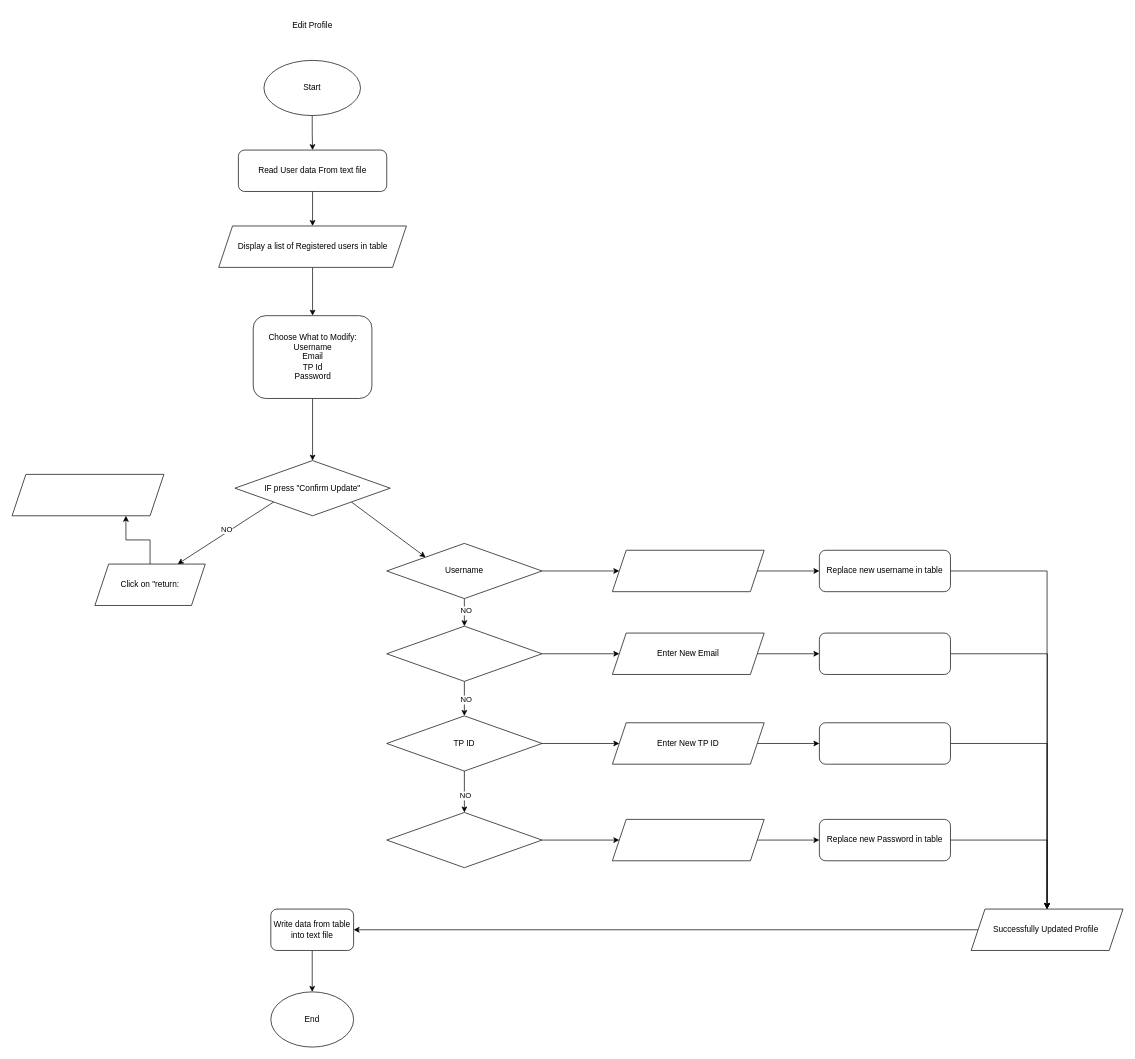
This 1135x1059 diagram has some shape labels left out. The box of each missing label's shape, as (x1, y1, x2, y2) in pixels:
Email: (386, 625, 542, 681)
Enter New Password: (612, 819, 764, 861)
Enter New Username: (612, 550, 764, 592)
Password: (386, 812, 542, 868)
Replace new email in table: (819, 632, 950, 674)
Replace new TP ID in table: (819, 722, 950, 764)
Return to home page: (11, 474, 164, 516)
